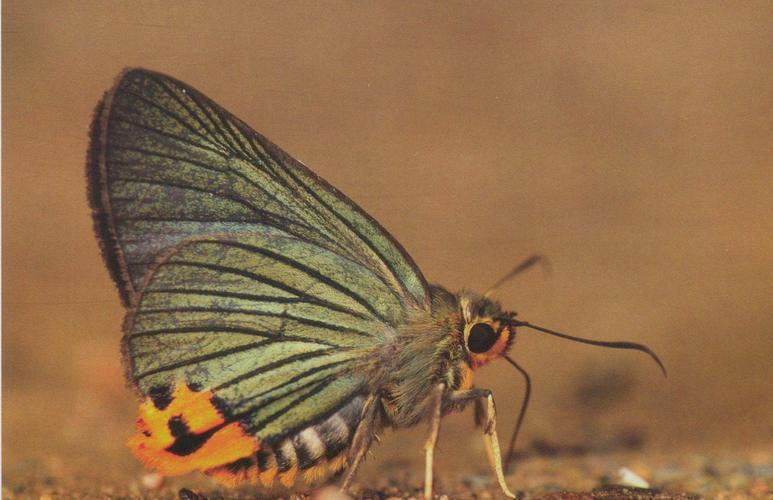Hesperiidae: (82, 62, 674, 492)
